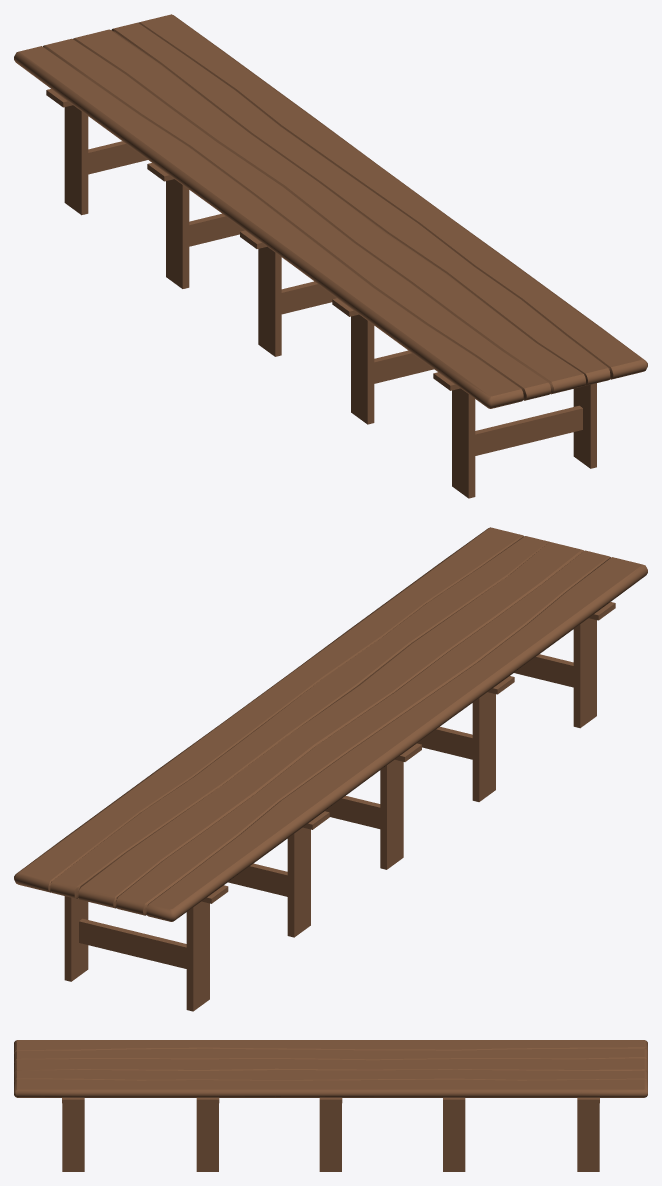
File: SE_093_wooden_table_var1.glb
3 views of the same model, one above another, from view 1: azimuth 30°, elevation 25°; view 2: azimuth 150°, elevation 25°; view 3: azimuth 270°, elevation 25° (orthographic). The views are drawn at different scales.
Visible parts, largest first — view 1: table, legs, support_bottom, support_top; view 2: table, legs, support_bottom, support_top; view 3: table, legs, support_top.
Part boxes in pixels (x1,y1,x2,y2): table: [14, 14, 647, 408]; legs: [64, 105, 596, 498]; support_bottom: [88, 141, 582, 455]; support_top: [46, 89, 460, 390]; table: [14, 527, 647, 921]; legs: [64, 618, 596, 1011]; support_bottom: [79, 654, 573, 968]; support_top: [202, 602, 615, 903]; table: [14, 1040, 647, 1097]; legs: [62, 1103, 599, 1171]; support_top: [62, 1097, 599, 1103].
Bounding box in the file's own units: 1.5 × 1.12 × 7.49.
